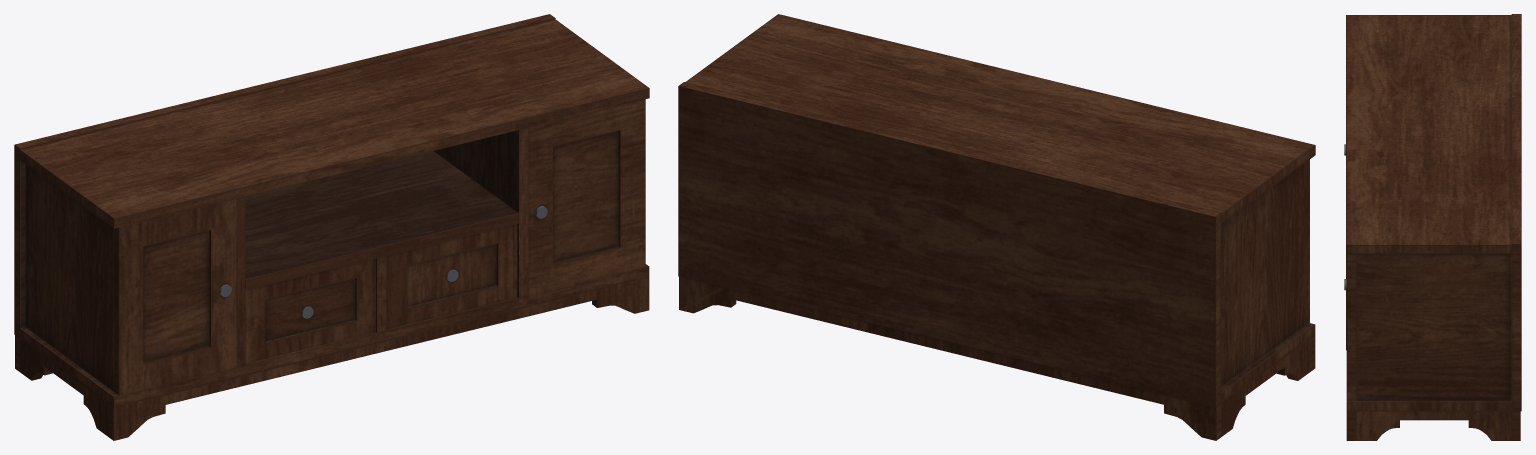
Rendered from wooden_tv_tablemedia_center.glb.
3 views of the same model, side by side, from view 1: azimuth 30°, elevation 25°; view 2: azimuth 150°, elevation 25°; view 3: azimuth 270°, elevation 25° (orthographic). The views are drawn at different scales.
Parts seen in each view (by area): view 1: Mediacenter; view 2: Mediacenter; view 3: Mediacenter.
Part boxes in pixels (x1,y1,x2,y2): Mediacenter: [14, 14, 649, 440]; Mediacenter: [678, 14, 1315, 440]; Mediacenter: [1344, 14, 1521, 440].
Bounding box in the file's own units: 1.65 × 0.6586 × 0.5374.
1 material, 1 textured.
